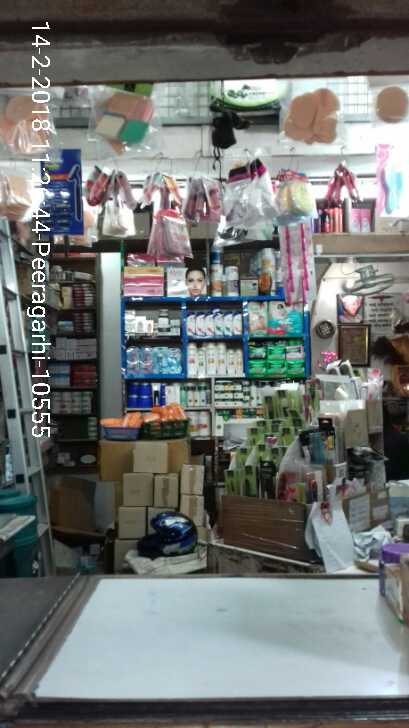venus: (281, 223, 310, 305), (167, 347, 181, 374), (153, 347, 167, 374), (139, 347, 153, 373), (129, 346, 139, 373)
